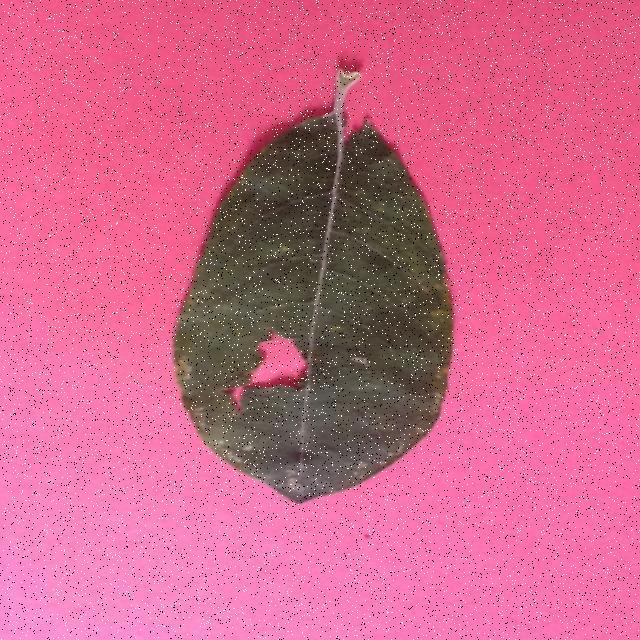foliage: (173, 66, 455, 506)
